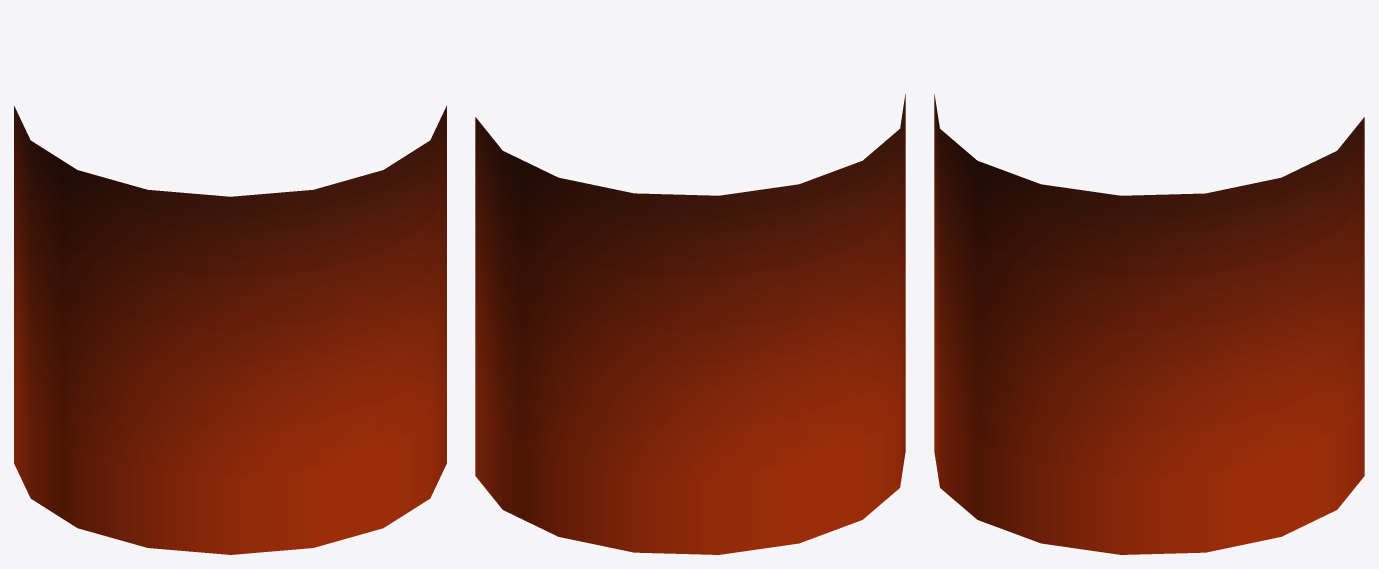
The picture shows the model from 3 angles, left to right: view 1: azimuth 30°, elevation 25°; view 2: azimuth 150°, elevation 25°; view 3: azimuth 270°, elevation 25°; orthographic projection.
Parts seen in each view (by area): view 1: Joint_0_Object_0; view 2: Joint_0_Object_0; view 3: Joint_0_Object_0.
Part boxes in pixels (<box>): Joint_0_Object_0: <box>14,105,446,554</box>; Joint_0_Object_0: <box>475,93,905,554</box>; Joint_0_Object_0: <box>934,94,1364,554</box>.
Bounding box in the file's own units: 445 × 410 × 445.
1 material, 1 textured.
